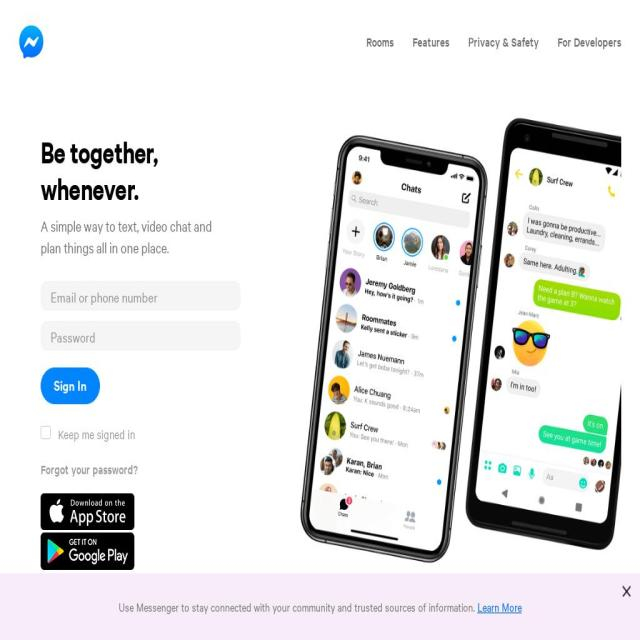button: (41, 460, 216, 478), (41, 368, 100, 404), (40, 518, 142, 532), (40, 558, 134, 572), (18, 25, 44, 58)
field: (41, 281, 240, 311), (41, 321, 240, 351)
heading: (41, 133, 216, 207)
image: (295, 115, 640, 570), (0, 573, 640, 640), (40, 532, 134, 570), (40, 493, 134, 530), (18, 25, 44, 58), (622, 586, 630, 596)
label: (58, 425, 135, 443)
link: (468, 32, 539, 50), (558, 32, 622, 50), (477, 598, 522, 615), (412, 32, 450, 50), (366, 32, 394, 50)
text: (41, 215, 216, 258), (118, 598, 478, 615)
